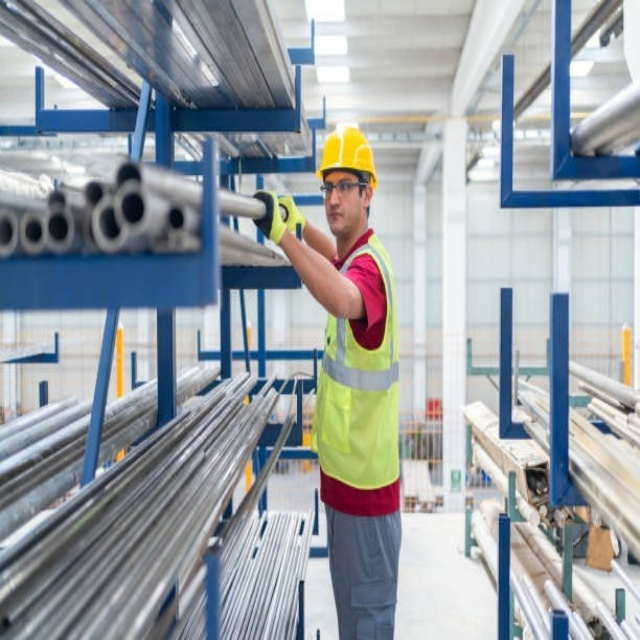Gafas: (319, 175, 368, 197)
Guantes: (250, 186, 289, 250), (275, 192, 306, 242)
Sin_mascara: (326, 207, 350, 232)
